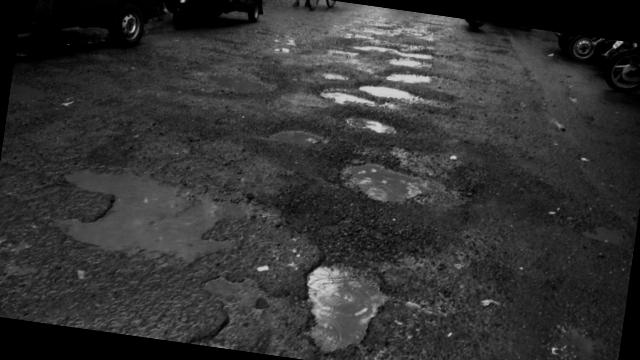Pothole: (44, 151, 276, 285), (296, 244, 396, 360), (326, 151, 432, 216), (185, 62, 272, 105), (360, 57, 429, 106), (204, 262, 270, 311), (329, 108, 405, 142), (260, 118, 330, 152), (355, 37, 433, 63), (7, 74, 53, 114), (313, 82, 377, 106), (306, 66, 350, 90)
